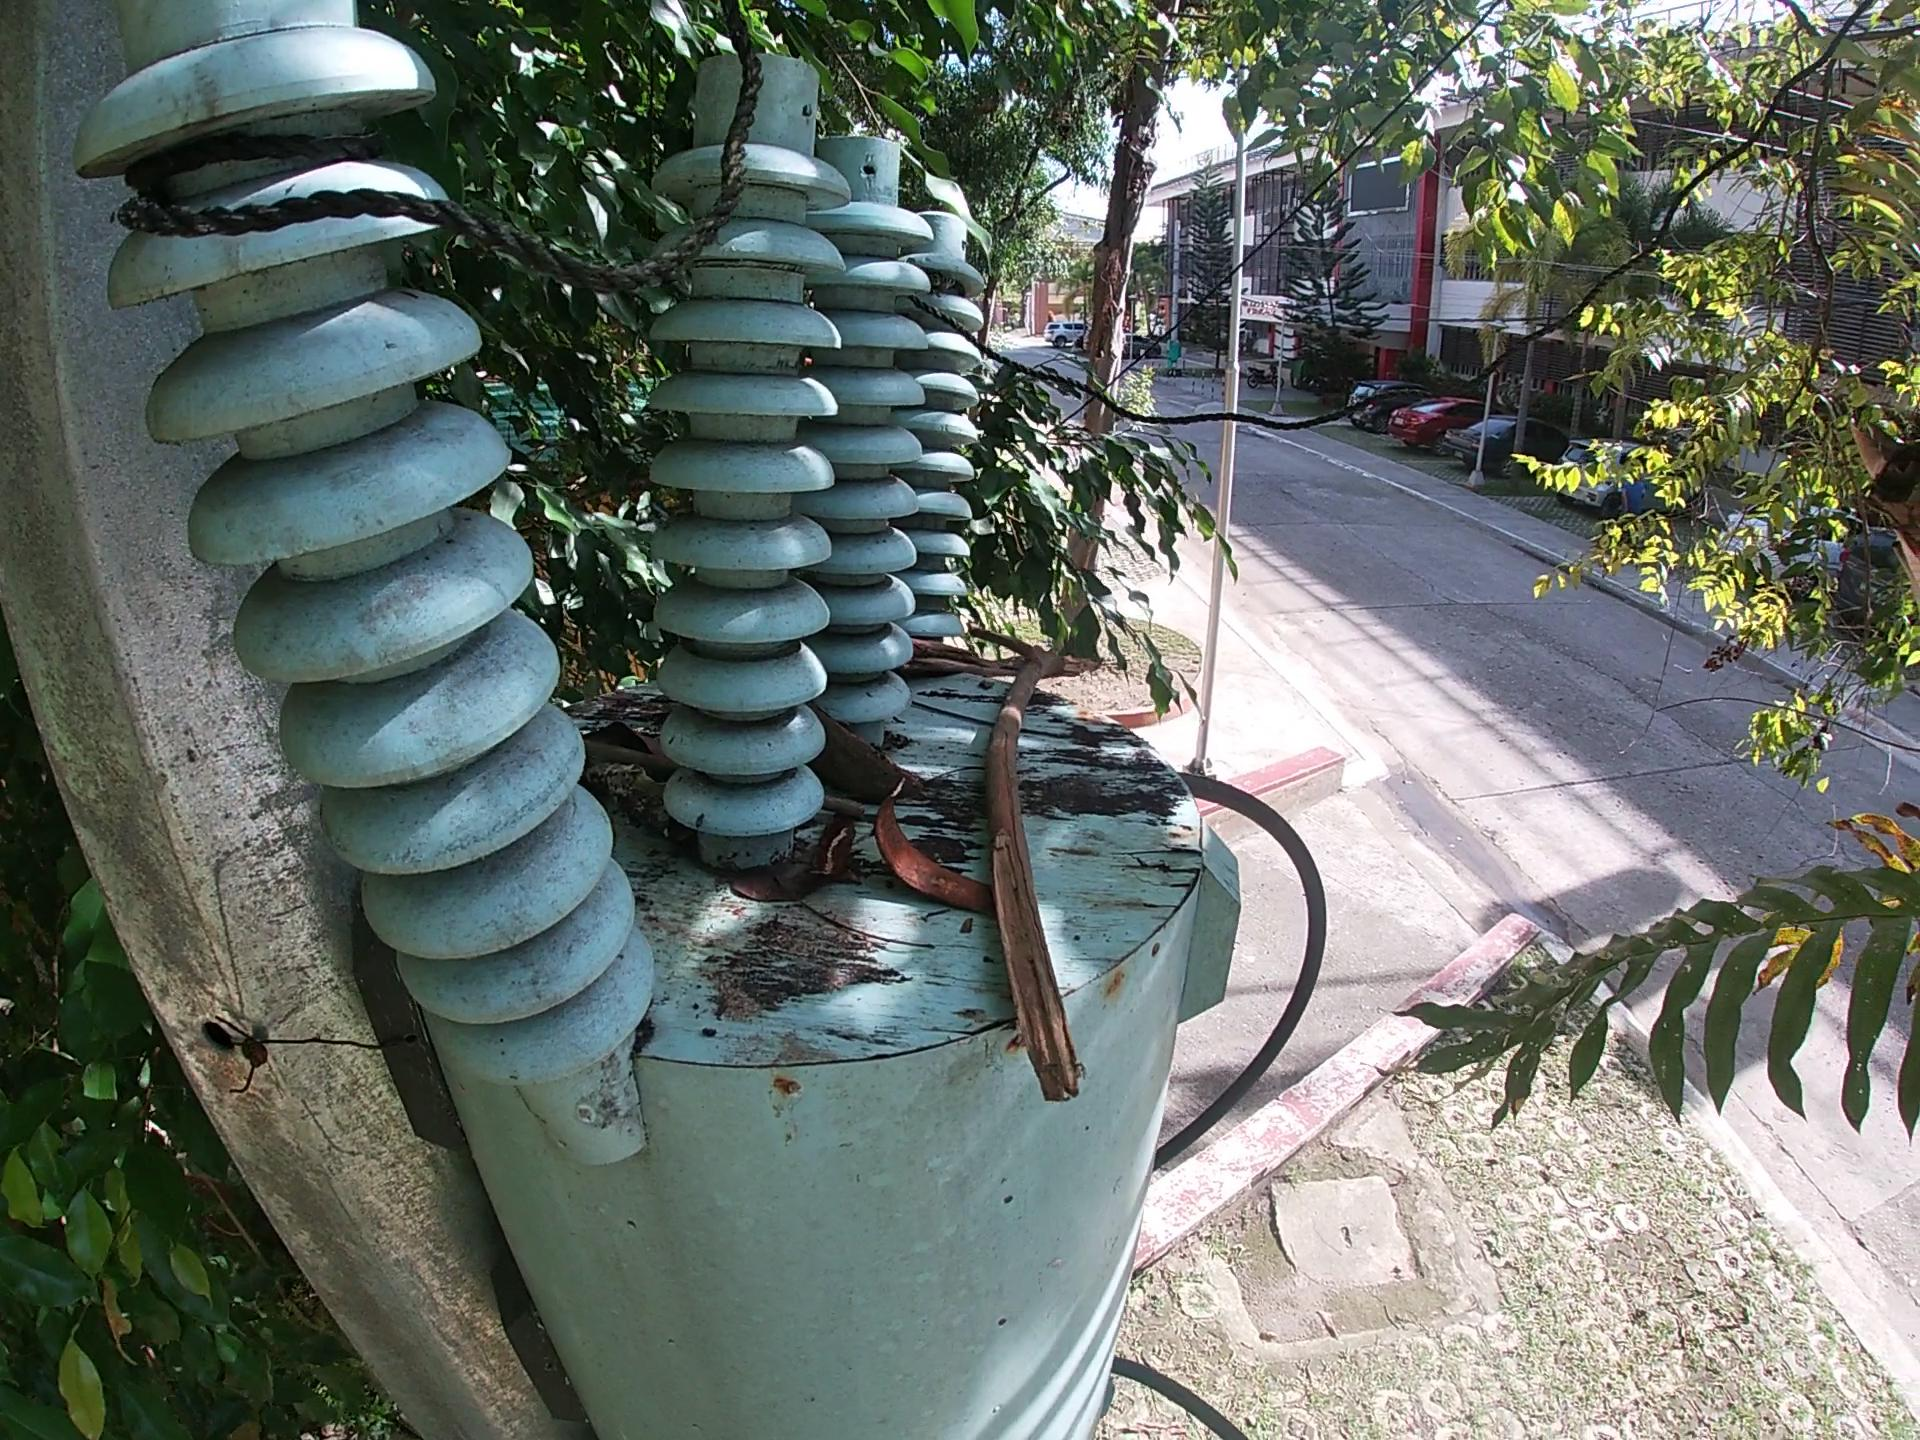leaf: (720, 856, 819, 905)
mahogany fruit: (866, 777, 1002, 923), (797, 700, 930, 806), (804, 806, 860, 889)
tree branch: (962, 616, 1107, 1109), (578, 755, 703, 850), (897, 637, 1023, 685), (578, 735, 682, 777), (815, 794, 869, 823)
